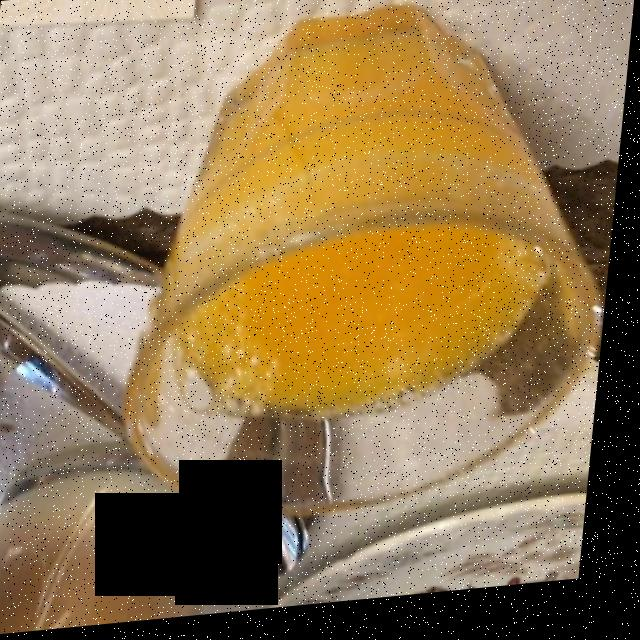juice-orange: (171, 21, 558, 425)
